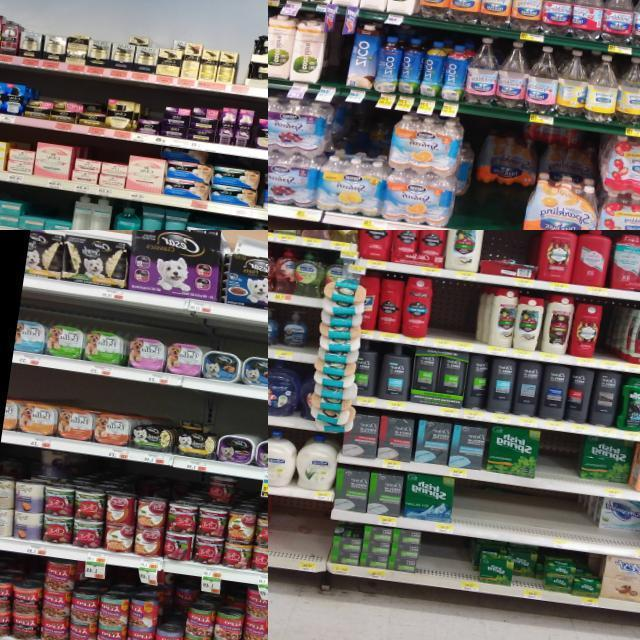Imprecise: (536, 130, 604, 230), (466, 136, 533, 230), (27, 448, 69, 538), (194, 474, 234, 556), (502, 541, 552, 591), (158, 578, 194, 640)
